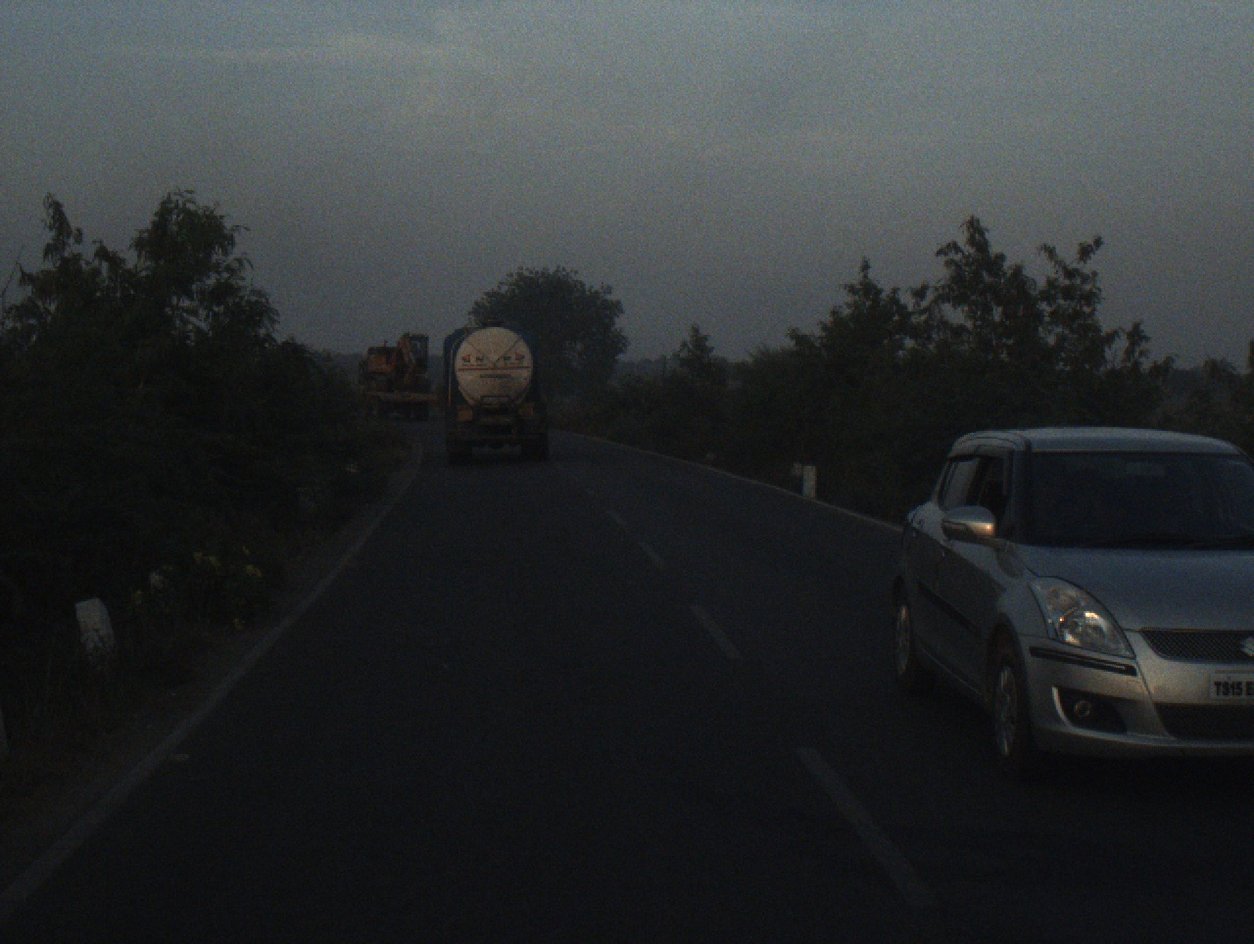car: (884, 424, 1254, 785)
truck: (438, 316, 553, 477)
vehicle fallback: (340, 327, 440, 433)
